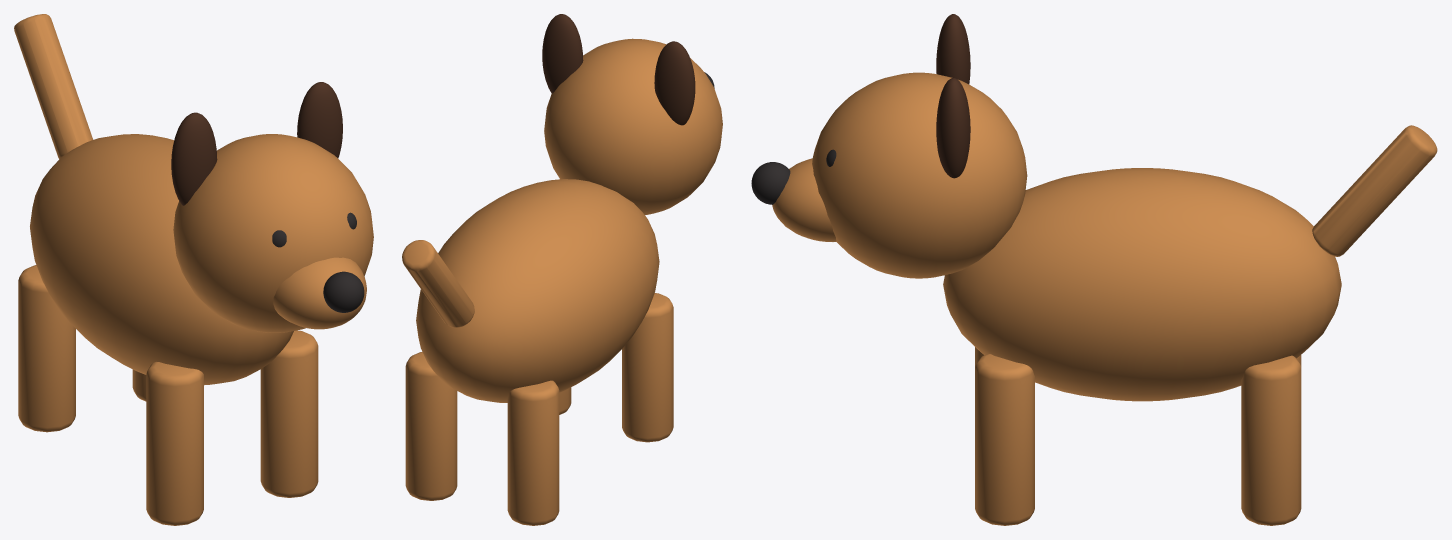
File: chien.glb
3 views of the same model, side by side, from view 1: azimuth 30°, elevation 25°; view 2: azimuth 150°, elevation 25°; view 3: azimuth 270°, elevation 25° (orthographic). The views are drawn at different scales.
Visible parts, largest first — view 1: corps, tete, patte0, patte1, patte2, queue_poil, museau, oreille0, oreille1, truffe; view 2: corps, tete, patte2, patte3, patte0, queue_poil, oreille0, oreille1; view 3: corps, tete, patte3, patte1, queue_poil, museau, oreille1, oreille0, truffe.
Boxes of the visible parts, <box> form: corps: <box>30,134,293,385</box>; tete: <box>173,134,373,332</box>; patte0: <box>146,361,203,525</box>; patte1: <box>260,330,318,497</box>; patte2: <box>18,265,75,432</box>; queue_poil: <box>14,14,93,159</box>; museau: <box>273,257,366,329</box>; oreille0: <box>171,112,217,205</box>; oreille1: <box>297,82,342,158</box>; truffe: <box>323,271,364,312</box>; corps: <box>416,179,659,402</box>; tete: <box>544,38,722,215</box>; patte2: <box>507,380,559,525</box>; patte3: <box>405,352,457,500</box>; patte0: <box>622,293,673,442</box>; queue_poil: <box>402,240,474,327</box>; oreille0: <box>654,41,695,125</box>; oreille1: <box>542,14,583,93</box>; corps: <box>943,168,1341,401</box>; tete: <box>812,72,1027,278</box>; patte3: <box>1241,355,1301,525</box>; patte1: <box>975,353,1034,525</box>; queue_poil: <box>1312,125,1437,256</box>; museau: <box>772,158,836,241</box>; oreille1: <box>936,78,970,178</box>; oreille0: <box>936,14,970,84</box>; truffe: <box>751,162,790,204</box>.
Size of the model in its own units: 0.272 by 0.565 by 0.7983.
